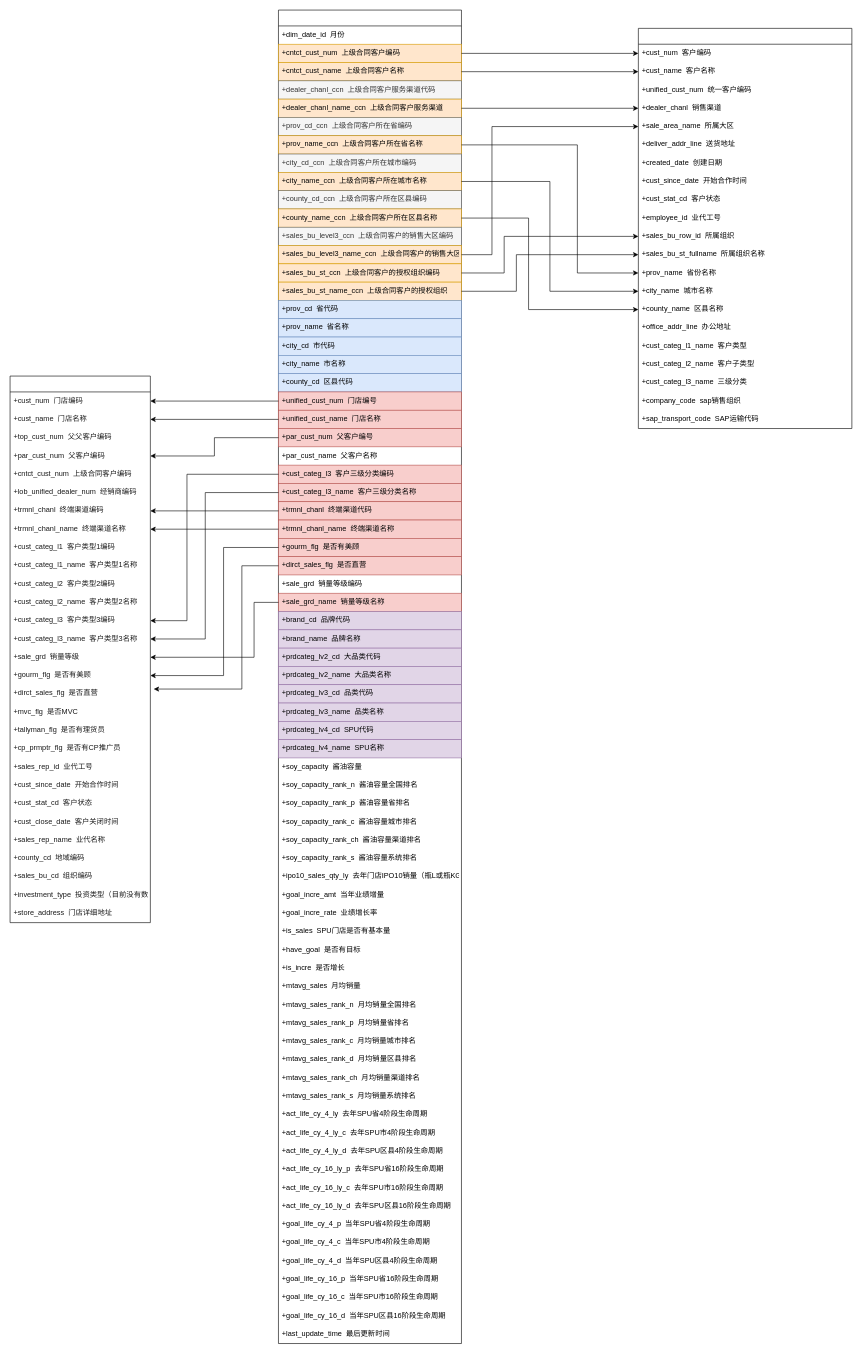
Image size: 862x1354. Some labels were removed from this diagram. The box of each missing label's shape, as (x1, y1, x2, y2) in pixels:
spu月度门店标签: (278, 9, 461, 1344)
合同客户主数据: (638, 28, 852, 429)
门店信息: (9, 375, 150, 923)
